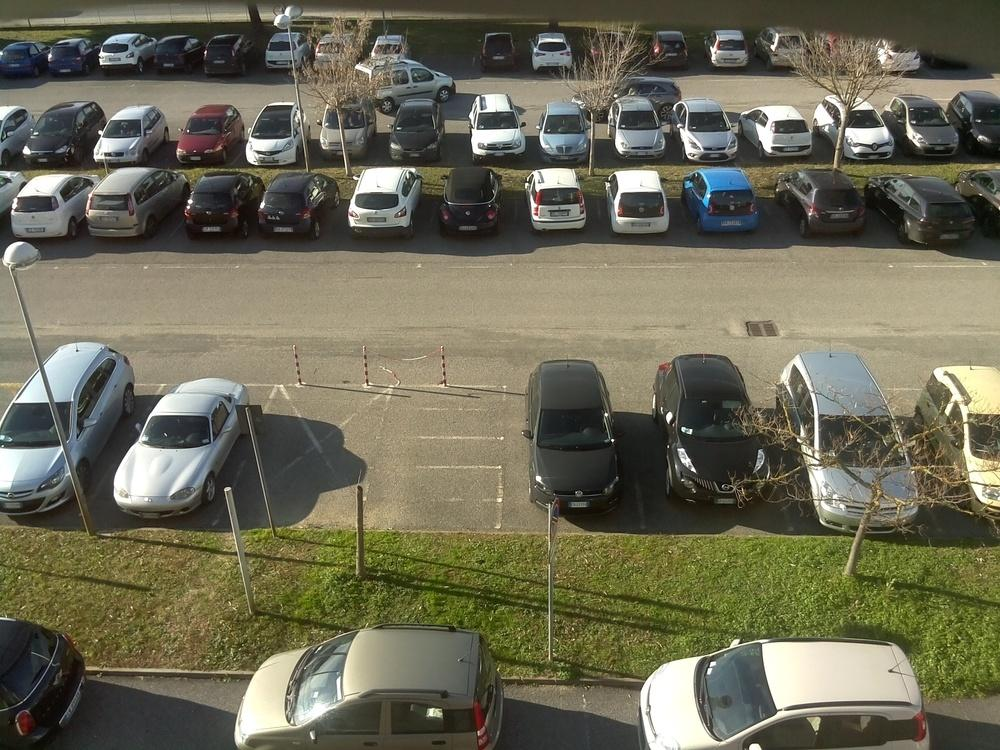empty: (640, 635, 943, 750), (235, 628, 506, 750), (0, 335, 134, 515), (108, 374, 256, 521), (650, 350, 788, 505), (778, 352, 925, 483), (522, 355, 638, 515), (4, 618, 84, 742), (870, 173, 986, 249), (935, 373, 997, 485), (780, 171, 877, 240), (338, 164, 424, 239), (83, 172, 178, 239), (682, 169, 771, 237), (7, 173, 91, 244), (602, 169, 684, 239), (430, 169, 511, 239), (253, 173, 340, 238), (177, 175, 257, 242), (90, 104, 172, 169), (22, 104, 103, 168), (670, 94, 748, 160), (520, 169, 597, 235), (169, 105, 248, 169), (384, 90, 451, 165), (605, 93, 678, 160), (891, 93, 966, 156), (463, 91, 532, 159), (237, 106, 308, 168), (745, 109, 823, 162), (533, 103, 597, 167), (830, 102, 897, 160), (318, 97, 375, 158), (760, 21, 814, 73), (863, 31, 923, 77), (955, 96, 1000, 156), (528, 32, 587, 76), (640, 30, 700, 72), (701, 28, 759, 71), (149, 36, 208, 78), (255, 33, 310, 75), (582, 30, 636, 72), (202, 36, 256, 78), (969, 174, 1000, 245), (93, 37, 150, 75), (42, 40, 97, 79), (474, 35, 525, 74), (0, 44, 48, 82), (2, 110, 31, 164)
occupied: (931, 38, 994, 82)
